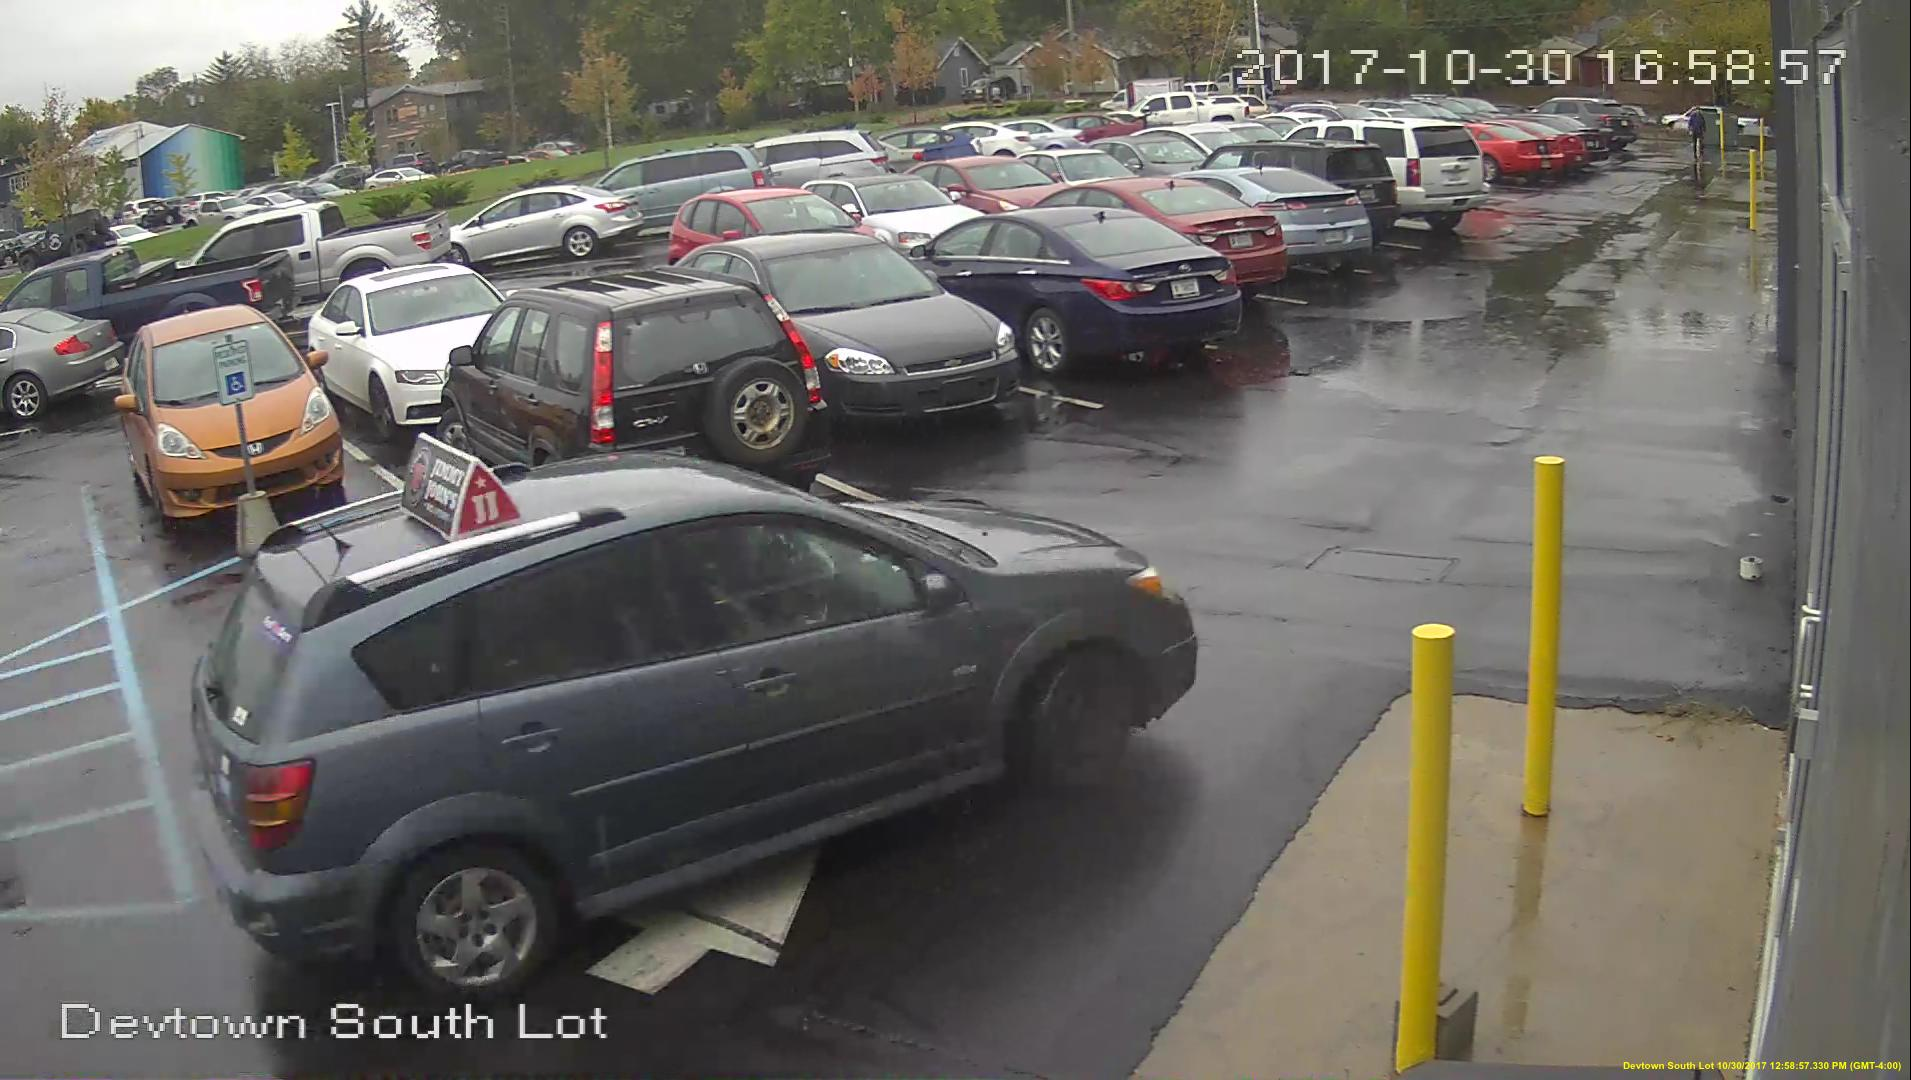jimmy_johns: (396, 432, 526, 547)
